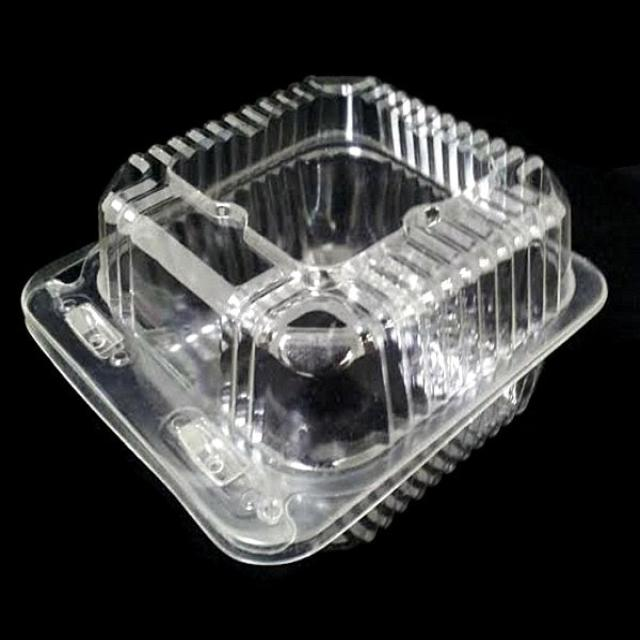plastic_box: (5, 45, 624, 596)
